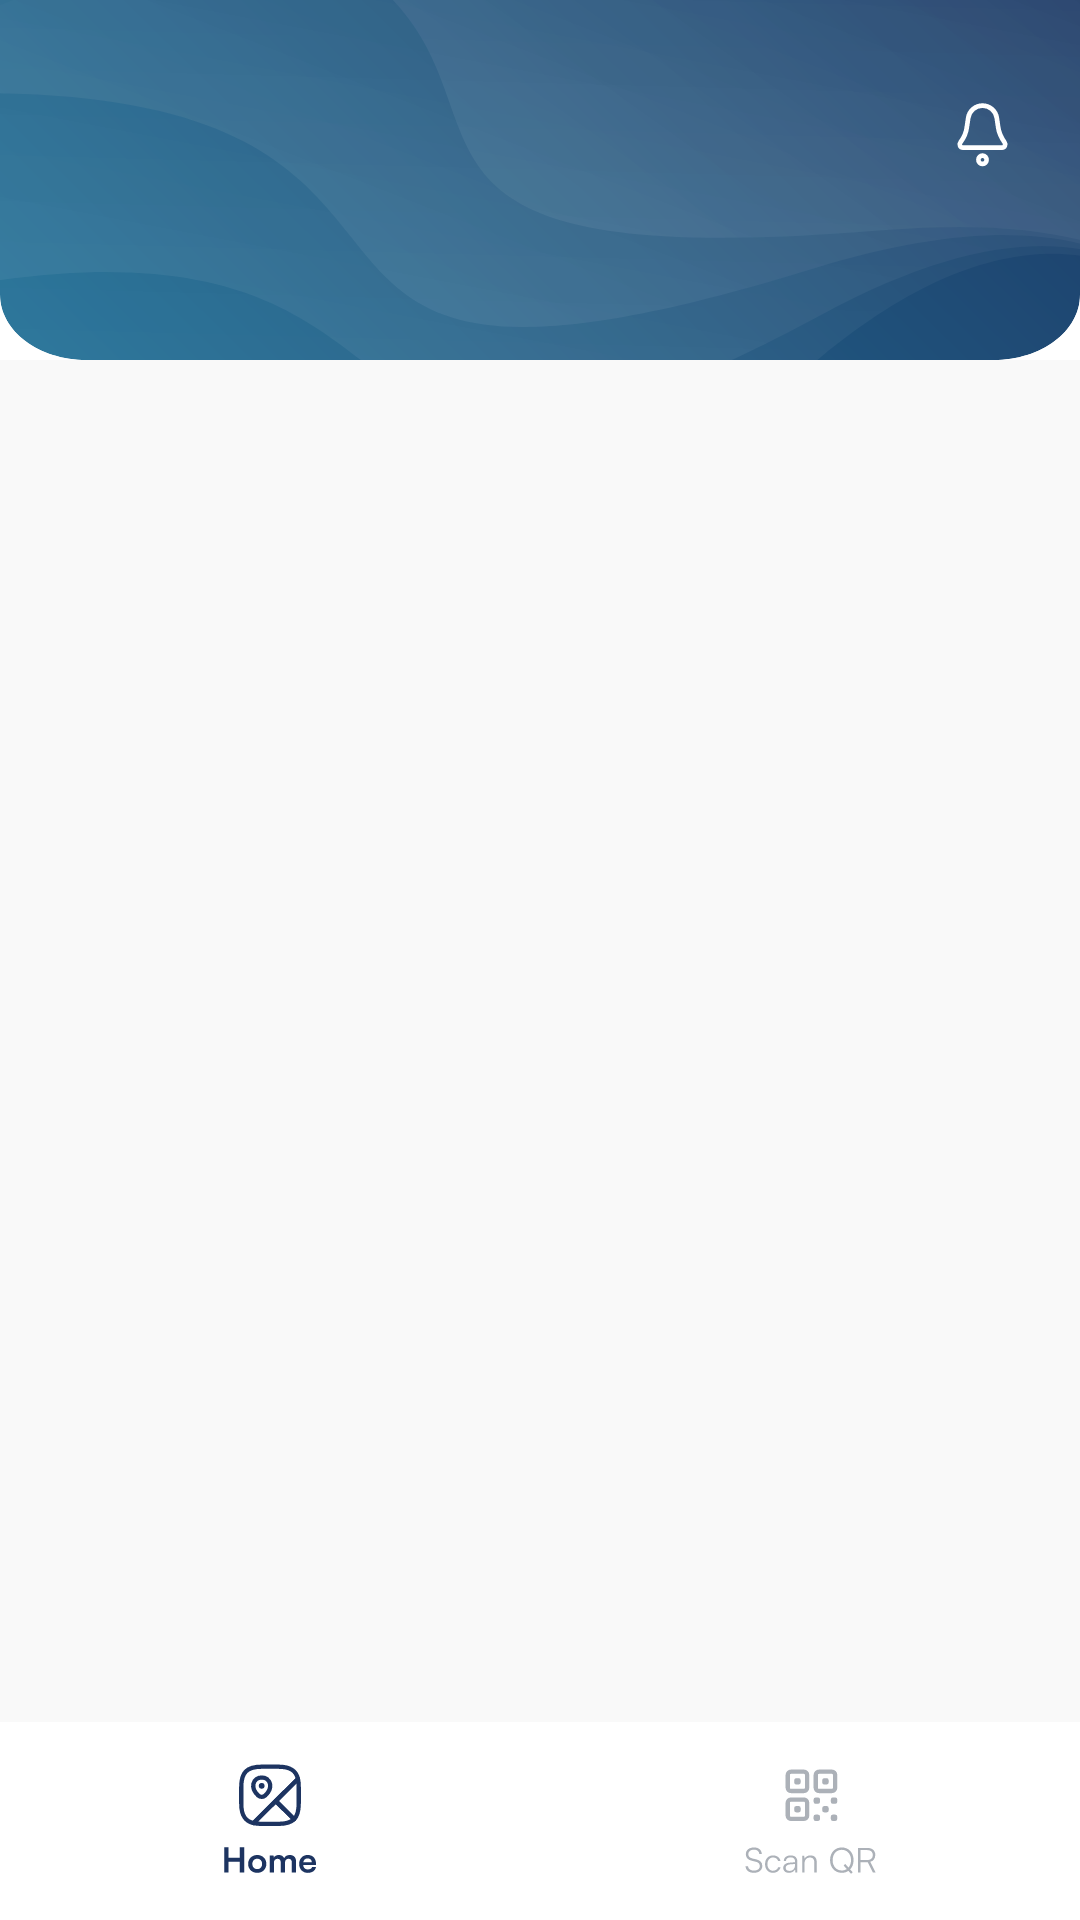

Where to tap for icons on this 1080w x 1920h app screen, as (x,y):
bell: (982,135)
